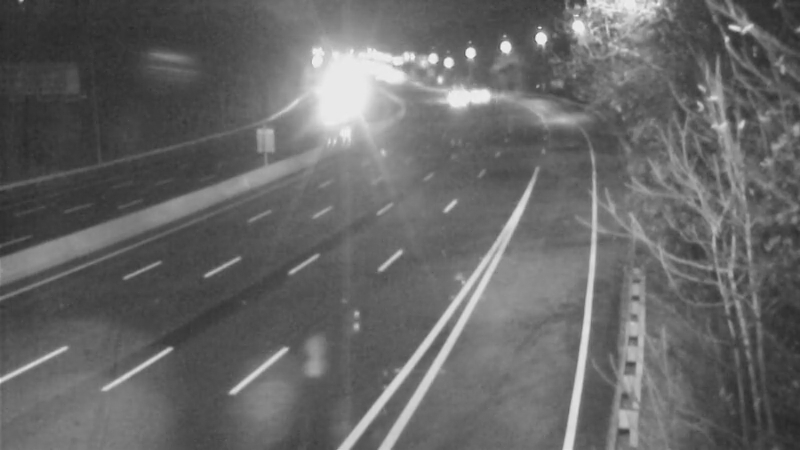vehicle: (428, 71, 478, 121), (451, 68, 501, 118), (313, 75, 363, 125)
